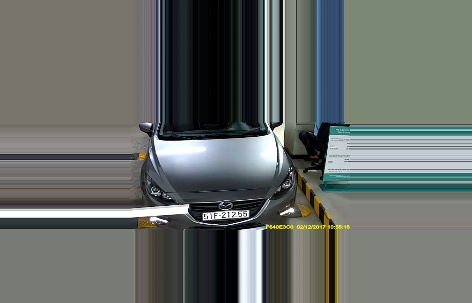plate: (201, 209, 248, 220)
